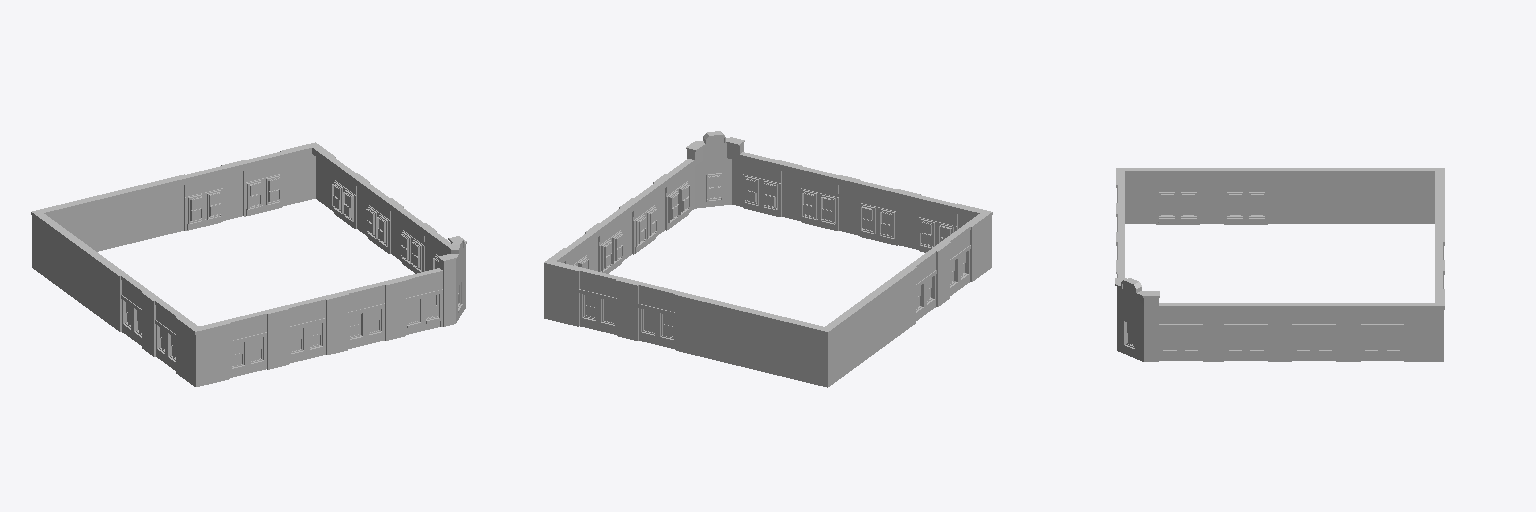
The model's file is Building_LevelModularShell_Top_LOD0.obj.
3 renders of one model, left to right at view 1: azimuth 30°, elevation 25°; view 2: azimuth 150°, elevation 25°; view 3: azimuth 270°, elevation 25°, orthographic.
Parts seen in each view (by area): view 1: Building_LevelModularShell_Top_LOD0 Building_LevelModularShell_T; view 2: Building_LevelModularShell_Top_LOD0 Building_LevelModularShell_T; view 3: Building_LevelModularShell_Top_LOD0 Building_LevelModularShell_T.
Part boxes in pixels (x1,y1,x2,y2): Building_LevelModularShell_Top_LOD0 Building_LevelModularShell_T: (31, 142, 466, 386); Building_LevelModularShell_Top_LOD0 Building_LevelModularShell_T: (544, 131, 992, 387); Building_LevelModularShell_Top_LOD0 Building_LevelModularShell_T: (1115, 168, 1444, 361).
Size of the model in its own units: 2414 by 601 by 2414.